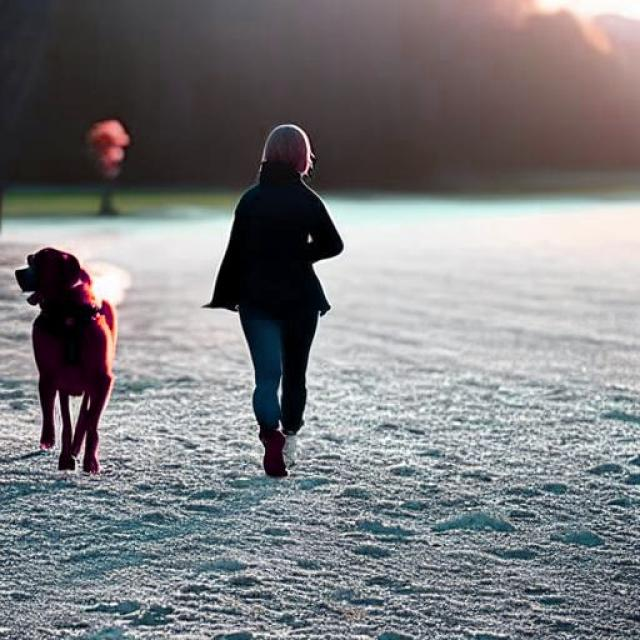Unleashed_Dog: (13, 247, 309, 477)
